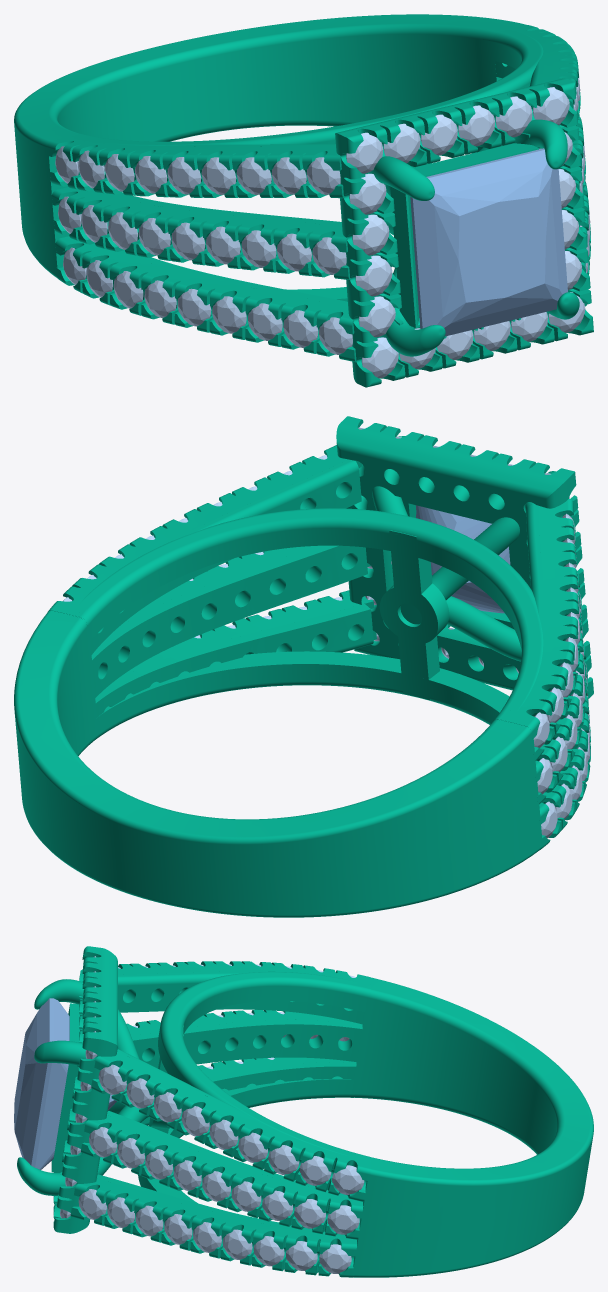
The picture shows the model from 3 angles, top to bottom: view 1: azimuth 30°, elevation 25°; view 2: azimuth 150°, elevation 25°; view 3: azimuth 270°, elevation 25°; orthographic projection. The views are drawn at different scales.
Visible parts, largest first — view 1: JTC 13810(base).3dm, Diamond_Round (×42), Diamond_Princess; view 2: JTC 13810(base).3dm, Diamond_Princess; view 3: JTC 13810(base).3dm, Diamond_Round (×27), Diamond_Princess.
Boxes of the visible parts, x1,y1,x2,y2 form: JTC 13810(base).3dm: (14, 14, 593, 387); Diamond_Round (×42): (55, 87, 585, 378); Diamond_Princess: (410, 148, 567, 336); JTC 13810(base).3dm: (14, 416, 593, 917); Diamond_Princess: (415, 505, 510, 613); JTC 13810(base).3dm: (17, 946, 593, 1277); Diamond_Round (×27): (78, 1064, 364, 1273); Diamond_Princess: (14, 998, 116, 1169).
Bounding box in the file's own units: 2.39 × 1.13 × 3.
